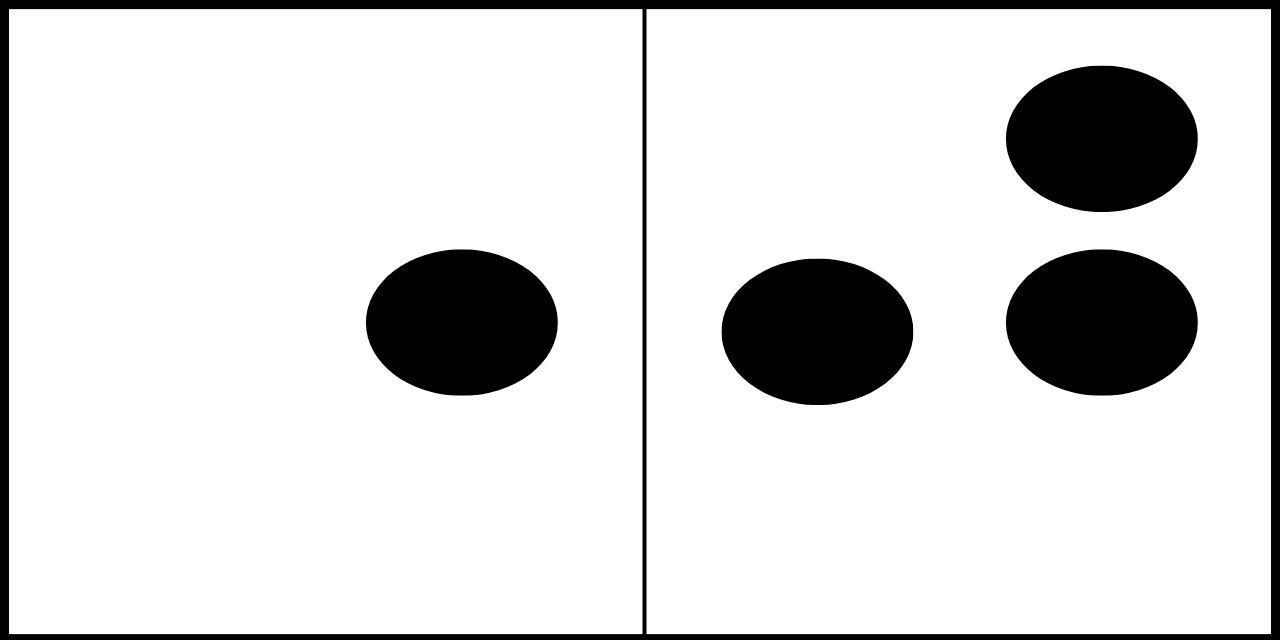dot_5: (73, 65, 563, 590)
halaman: (721, 65, 1197, 600)
